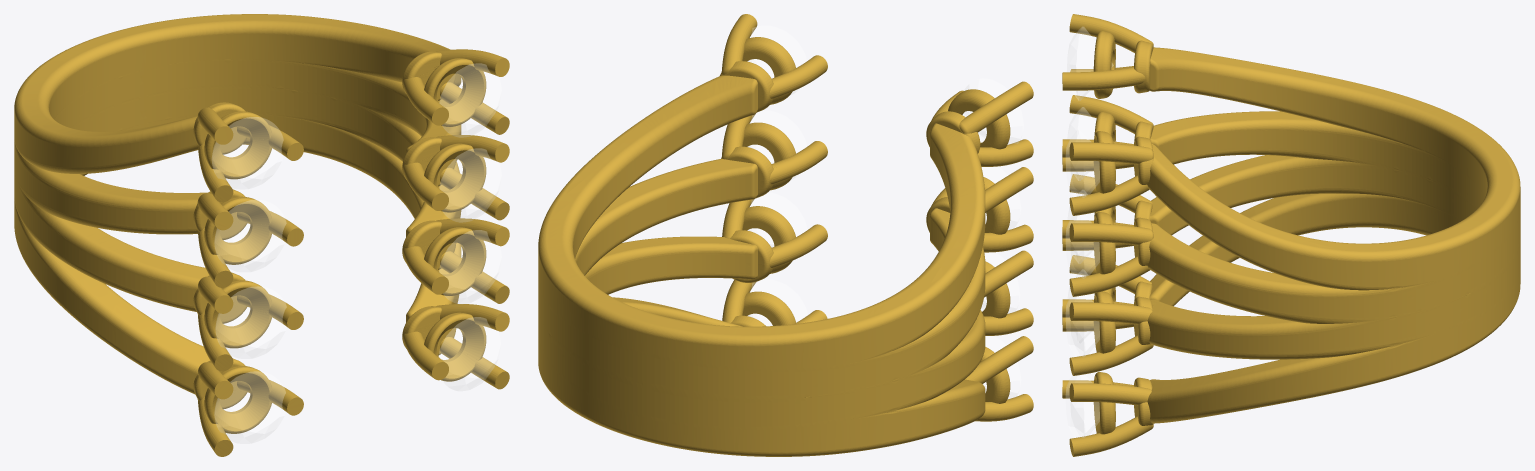
File: test-ring-final.gltf
3 renders of one model, left to right at view 1: azimuth 30°, elevation 25°; view 2: azimuth 150°, elevation 25°; view 3: azimuth 270°, elevation 25°, orthographic. The views are drawn at different scales.
Parts seen in each view (by area): view 1: Delfina Ring STL; view 2: Delfina Ring STL; view 3: Delfina Ring STL.
Boxes of the visible parts, left/top/right/bottom form: Delfina Ring STL: left=14, top=14, right=509, bottom=456; Delfina Ring STL: left=538, top=14, right=1033, bottom=456; Delfina Ring STL: left=1062, top=14, right=1520, bottom=456.
Size of the model in its own units: 4.53 by 3.7 by 4.91.
